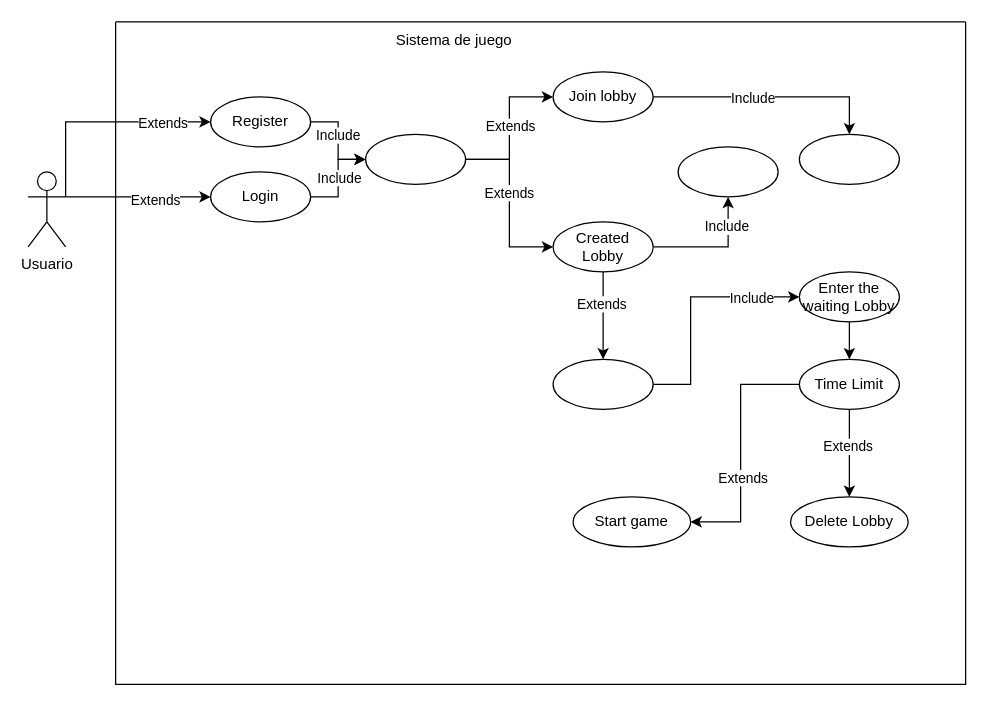
The diagram is 988 pixels wide and 706 high, and some of its shapes have lost their labels. Here are the shapes that lost their labels. From the top down, the box of each, then its label:
(364, 133, 466, 184): UI
(677, 146, 778, 197): Generate code
(798, 133, 899, 184): put code
(552, 358, 653, 409): Lobby Settings
